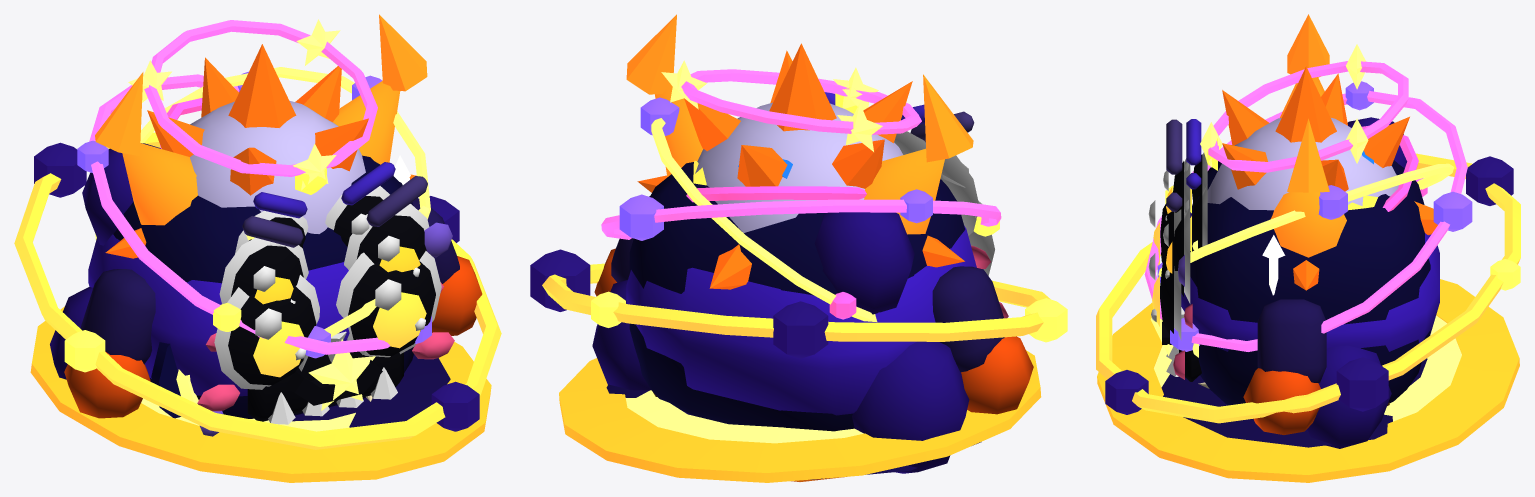
File: black_hole_creatures.fbx
The picture shows the model from 3 angles, left to right: view 1: azimuth 30°, elevation 25°; view 2: azimuth 150°, elevation 25°; view 3: azimuth 270°, elevation 25°; orthographic projection. The views are drawn at different scales.
Parts seen in each view (by area): view 1: Star_Devourer, Dark_Matter_Blob, Graviton, Horizon_Knight; view 2: Star_Devourer, Dark_Matter_Blob, Graviton, Gravity_Mite; view 3: Star_Devourer, Dark_Matter_Blob, Graviton, Gravity_Mite, Horizon_Knight.
Part boxes in pixels (left/top/right/bottom): Star_Devourer: left=30, top=14, right=491, bottom=482; Dark_Matter_Blob: left=14, top=132, right=501, bottom=449; Graviton: left=77, top=44, right=431, bottom=358; Horizon_Knight: left=151, top=155, right=410, bottom=418; Star_Devourer: left=559, top=14, right=1041, bottom=482; Dark_Matter_Blob: left=530, top=161, right=1067, bottom=479; Graviton: left=601, top=43, right=1001, bottom=481; Gravity_Mite: left=652, top=186, right=866, bottom=396; Star_Devourer: left=1097, top=14, right=1519, bottom=482; Dark_Matter_Blob: left=1096, top=117, right=1520, bottom=448; Graviton: left=1144, top=66, right=1472, bottom=351; Gravity_Mite: left=1198, top=125, right=1418, bottom=405; Horizon_Knight: left=1262, top=235, right=1285, bottom=295.
Bounding box in the file's own units: 3.3 × 2.6 × 3.03.
